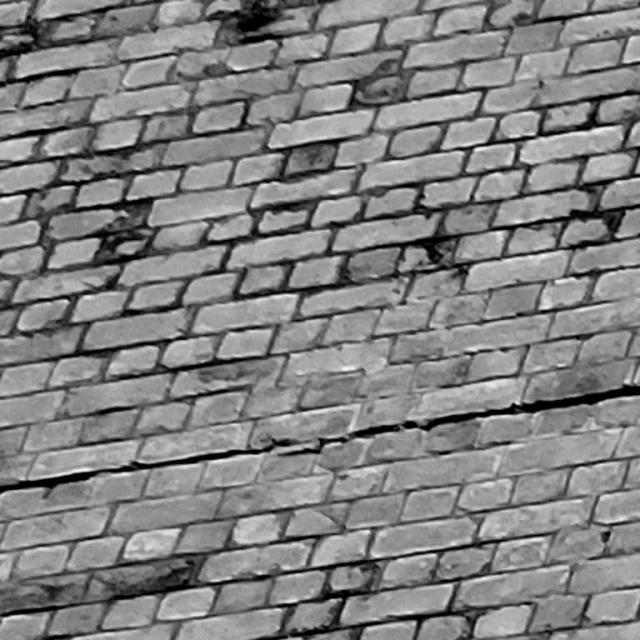crack: (1, 384, 639, 494)
